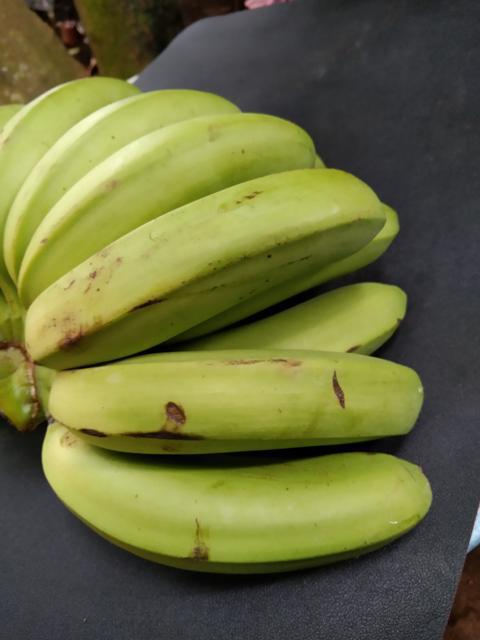freshunripe: (5, 103, 327, 303), (33, 421, 445, 576), (2, 79, 232, 257)
unripe: (27, 159, 387, 367), (44, 334, 433, 448)
